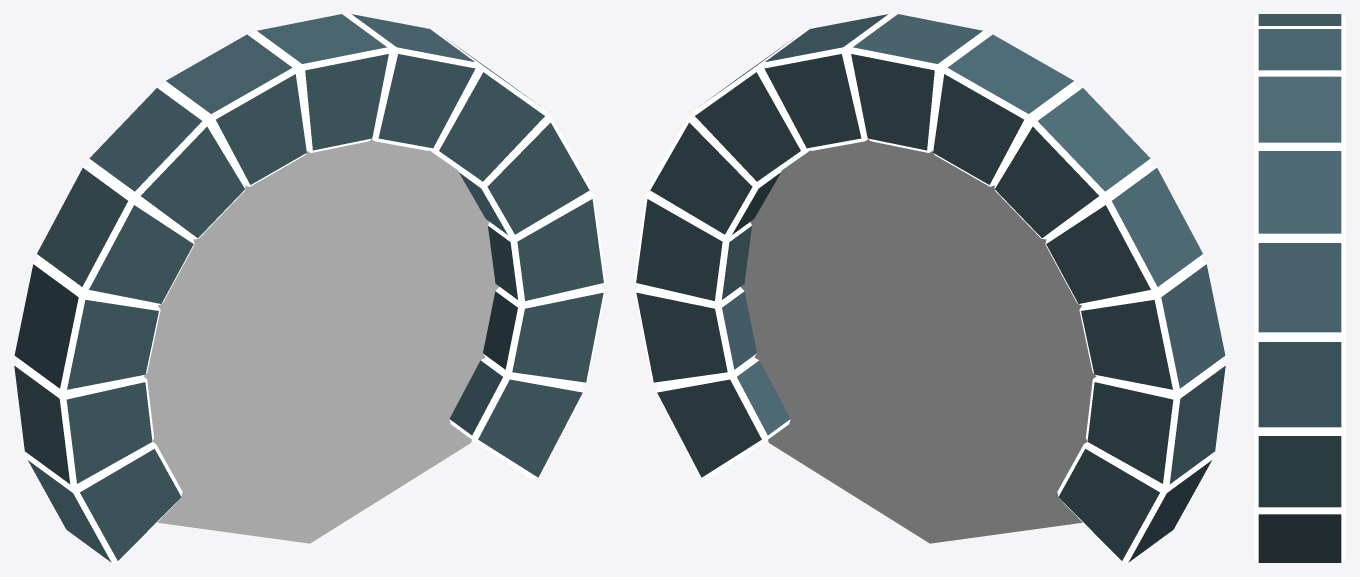
Rendered from CageGoal (1).fbx.
3 views of the same model, side by side, from view 1: azimuth 30°, elevation 25°; view 2: azimuth 150°, elevation 25°; view 3: azimuth 270°, elevation 25° (orthographic). The views are drawn at different scales.
Visible parts, largest first — view 1: CageGoal, Plane; view 2: CageGoal, Plane; view 3: CageGoal.
Boxes of the visible parts, bbox=[...] form: CageGoal: bbox=[14, 14, 605, 562]; Plane: bbox=[143, 139, 499, 543]; CageGoal: bbox=[634, 14, 1225, 562]; Plane: bbox=[740, 139, 1096, 543]; CageGoal: bbox=[1254, 14, 1345, 562].
Bounding box in the file's own units: 646 × 569 × 103.
